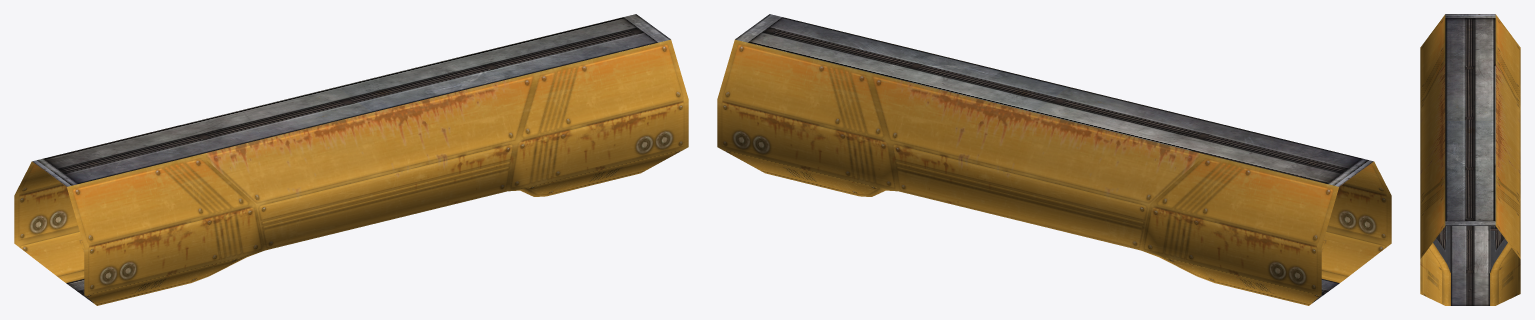
File: ARC_Girder_Frontal.FBX
3 views of the same model, side by side, from view 1: azimuth 30°, elevation 25°; view 2: azimuth 150°, elevation 25°; view 3: azimuth 270°, elevation 25° (orthographic). The views are drawn at different scales.
Visible parts, largest first — view 1: ARC_Girder_Frontal; view 2: ARC_Girder_Frontal; view 3: ARC_Girder_Frontal.
Boxes of the visible parts, x1,y1,x2,y2 form: ARC_Girder_Frontal: (14, 14, 688, 305); ARC_Girder_Frontal: (717, 14, 1391, 305); ARC_Girder_Frontal: (1420, 14, 1520, 305).
Bounding box in the file's own units: 500 × 100 × 100.
1 material, 1 textured.
